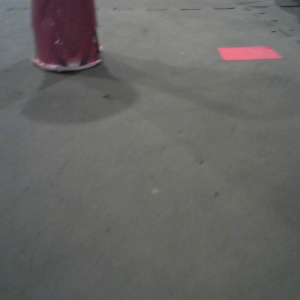middle: (26, 1, 105, 73)
